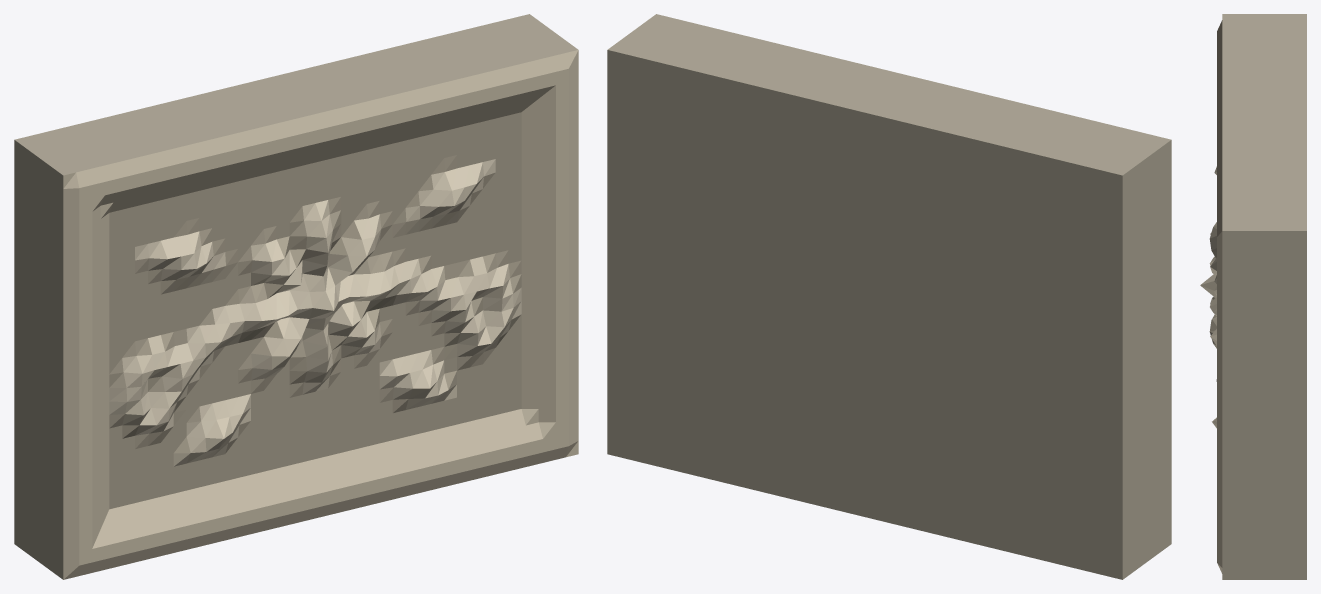
3 views of the same model, side by side, from view 1: azimuth 30°, elevation 25°; view 2: azimuth 150°, elevation 25°; view 3: azimuth 270°, elevation 25° (orthographic). The views are drawn at different scales.
Visible parts, largest first — view 1: ContinuousBotanicalReliefStonePanel; view 2: ContinuousBotanicalReliefStonePanel; view 3: ContinuousBotanicalReliefStonePanel.
Part boxes in pixels (<box>): ContinuousBotanicalReliefStonePanel: <box>14,14,578,579</box>; ContinuousBotanicalReliefStonePanel: <box>607,14,1171,579</box>; ContinuousBotanicalReliefStonePanel: <box>1200,14,1306,579</box>.
Size of the model in its own units: 2.4 by 1.8 by 0.5.
